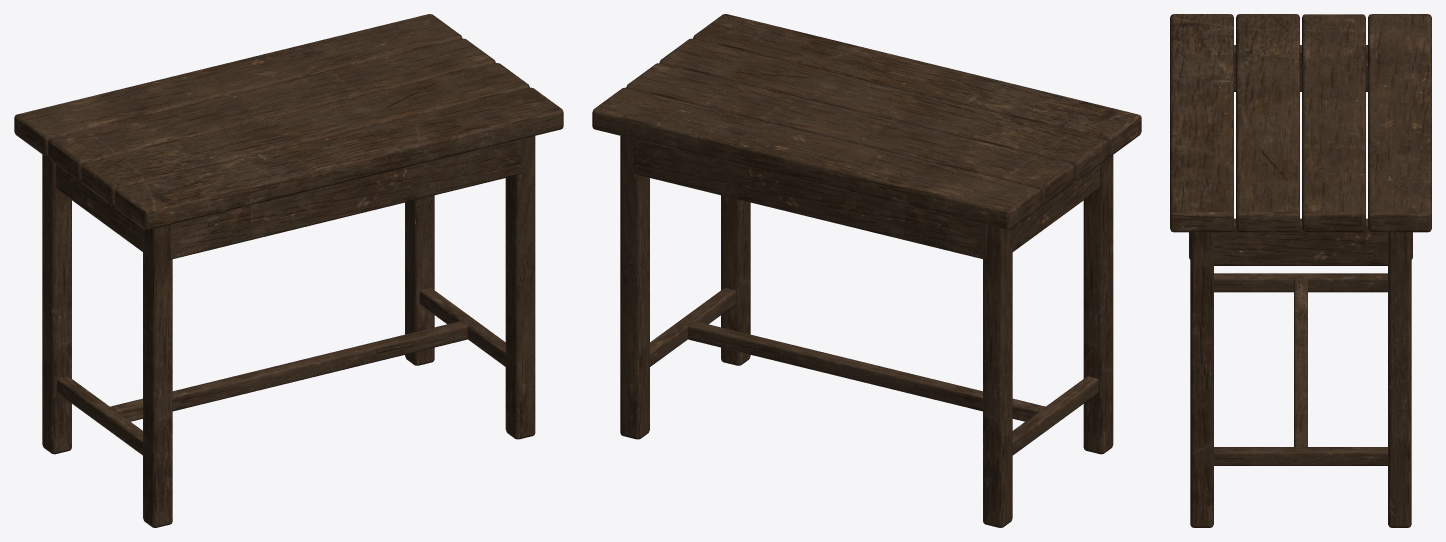
The model's file is PROP_NightBlue_Table_Long.glb.
The picture shows the model from 3 angles, left to right: view 1: azimuth 30°, elevation 25°; view 2: azimuth 150°, elevation 25°; view 3: azimuth 270°, elevation 25°; orthographic projection.
Visible parts, largest first — view 1: PROP_NightBlue_Table_Long; view 2: PROP_NightBlue_Table_Long; view 3: PROP_NightBlue_Table_Long.
Boxes of the visible parts, left/top/right/bottom form: PROP_NightBlue_Table_Long: left=14, top=14, right=563, bottom=527; PROP_NightBlue_Table_Long: left=592, top=14, right=1141, bottom=527; PROP_NightBlue_Table_Long: left=1170, top=14, right=1431, bottom=527.
Bounding box in the file's own units: 1.02 × 0.766 × 0.56.
1 material, 1 textured.
